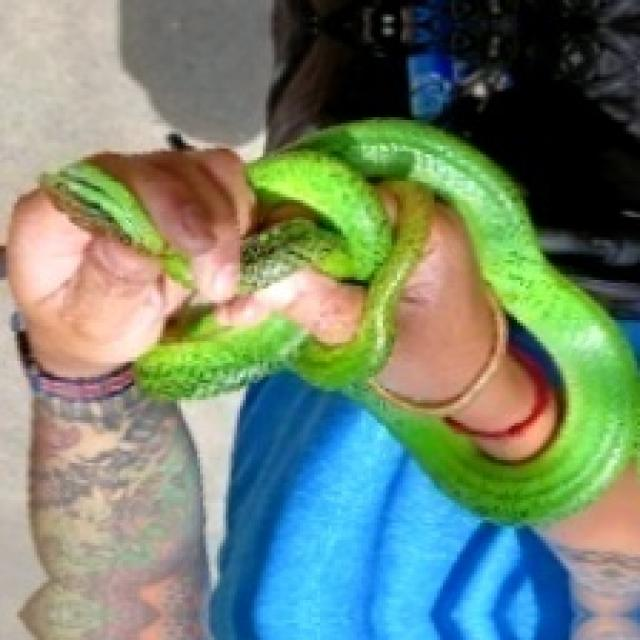red-tailed green ratsnake: (138, 119, 640, 523), (41, 160, 190, 287), (45, 160, 190, 282)
